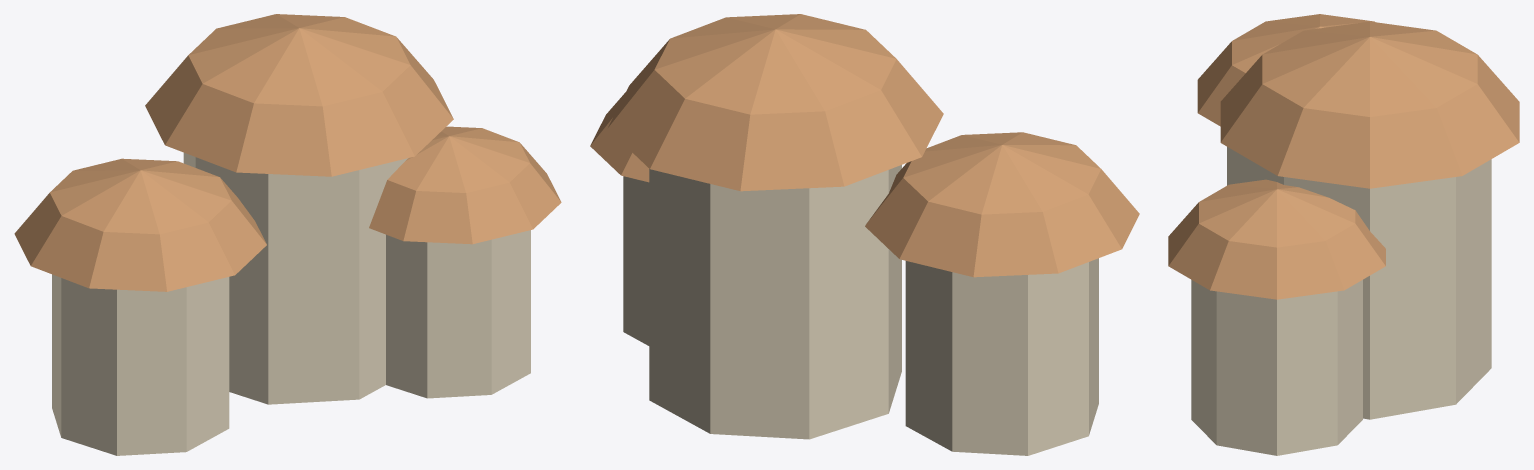
File: Mushroom_Common.glb
The picture shows the model from 3 angles, left to right: view 1: azimuth 30°, elevation 25°; view 2: azimuth 150°, elevation 25°; view 3: azimuth 270°, elevation 25°; orthographic projection. The views are drawn at different scales.
Parts seen in each view (by area): view 1: FTF_Nature_Mushroom_Common_Natural_StaticMesh; view 2: FTF_Nature_Mushroom_Common_Natural_StaticMesh; view 3: FTF_Nature_Mushroom_Common_Natural_StaticMesh.
Boxes of the visible parts, <box> form: FTF_Nature_Mushroom_Common_Natural_StaticMesh: <box>14,14,561,455</box>; FTF_Nature_Mushroom_Common_Natural_StaticMesh: <box>590,14,1139,455</box>; FTF_Nature_Mushroom_Common_Natural_StaticMesh: <box>1168,14,1519,455</box>.
Bounding box in the file's own units: 0.81 × 0.512 × 0.4914.
